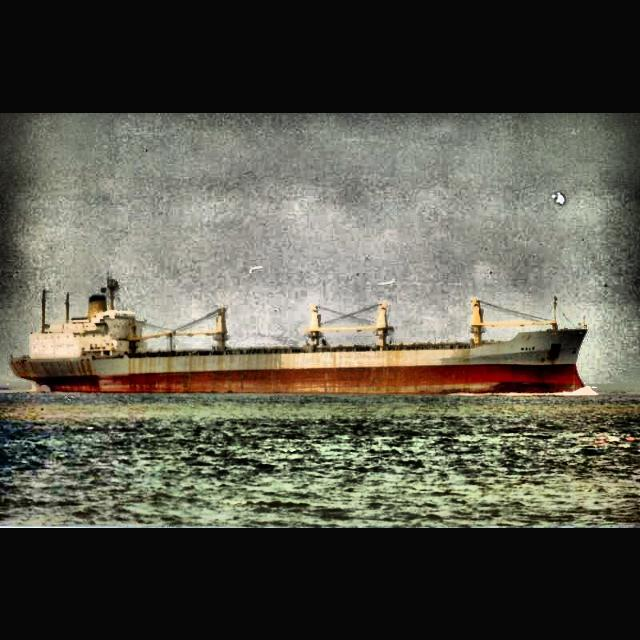bulk_carrier: (9, 275, 593, 395)
